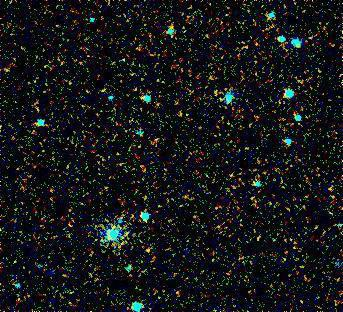star: (135, 235, 165, 265)
